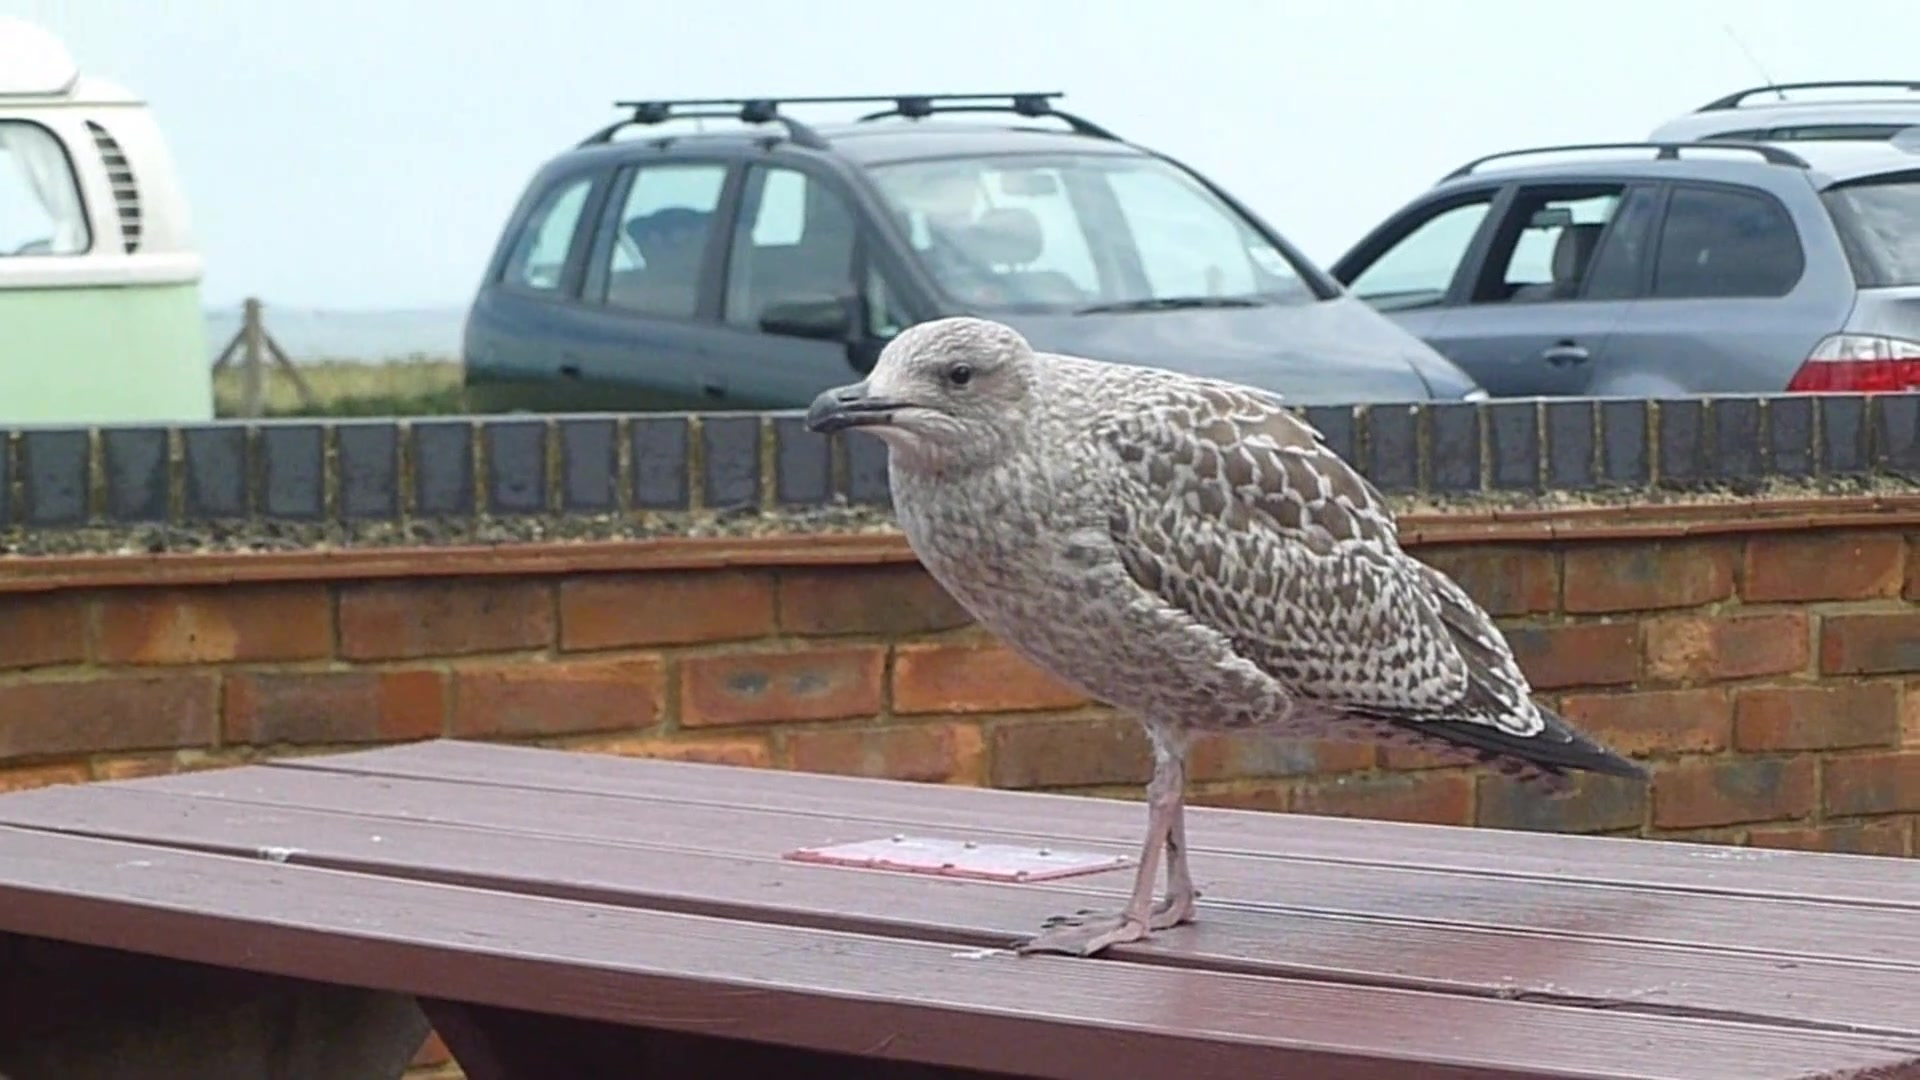bird: (796, 316, 1652, 953)
